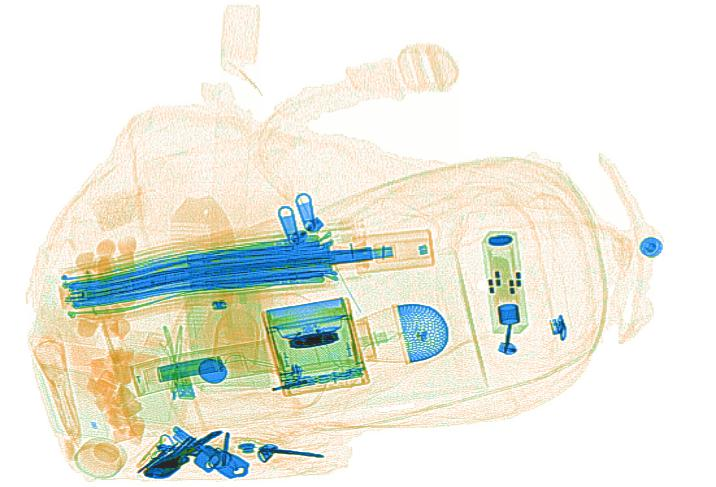battery: (156, 354, 226, 382)
